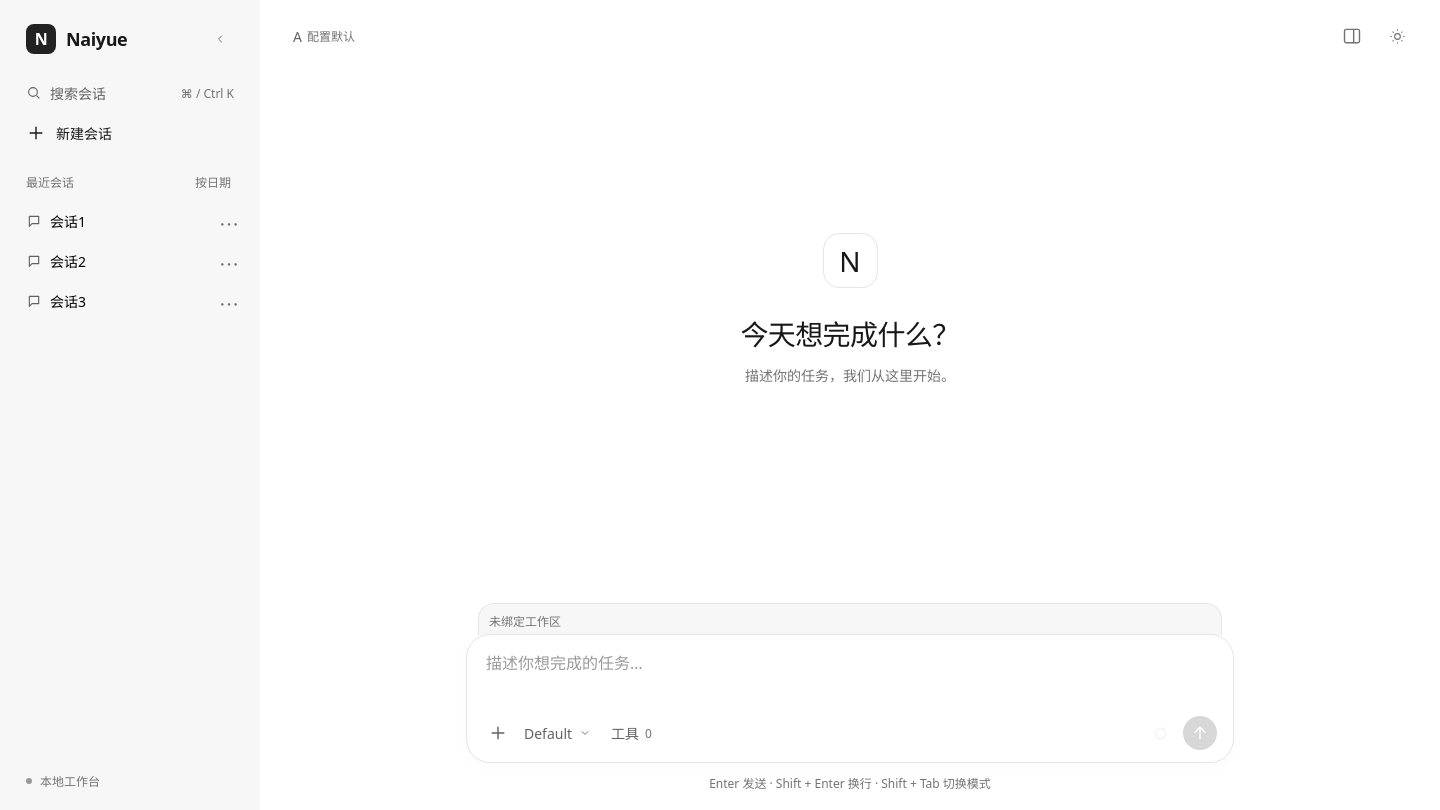
renames from the context menu without selecting or executing a conversation
Right-click the button "会话1": (130, 221) left=14, top=202, right=246, bottom=240
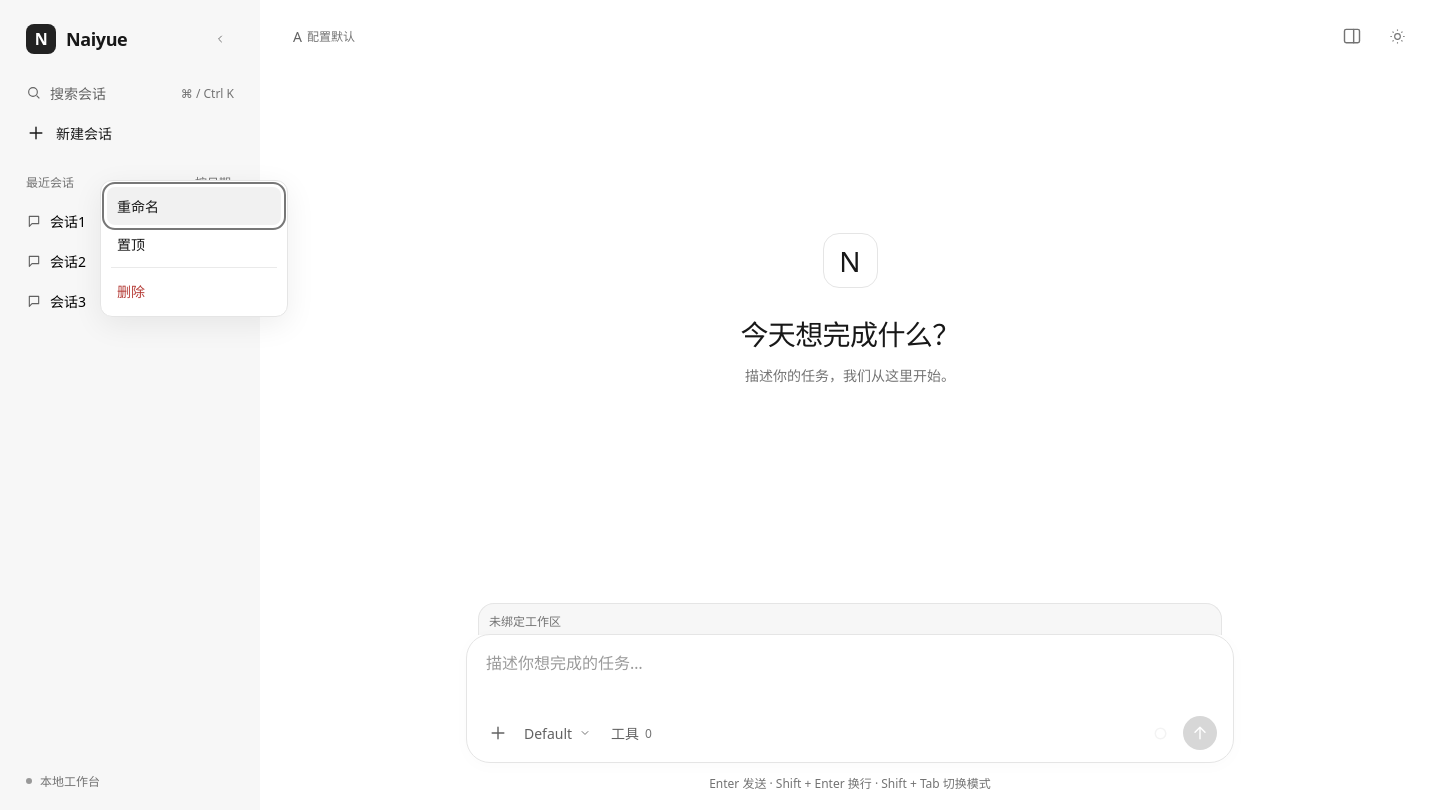
Check: the menu items read "重命名", "置顶", "删除", in this order
Click the menu item "重命名": (194, 206) left=107, top=187, right=281, bottom=225
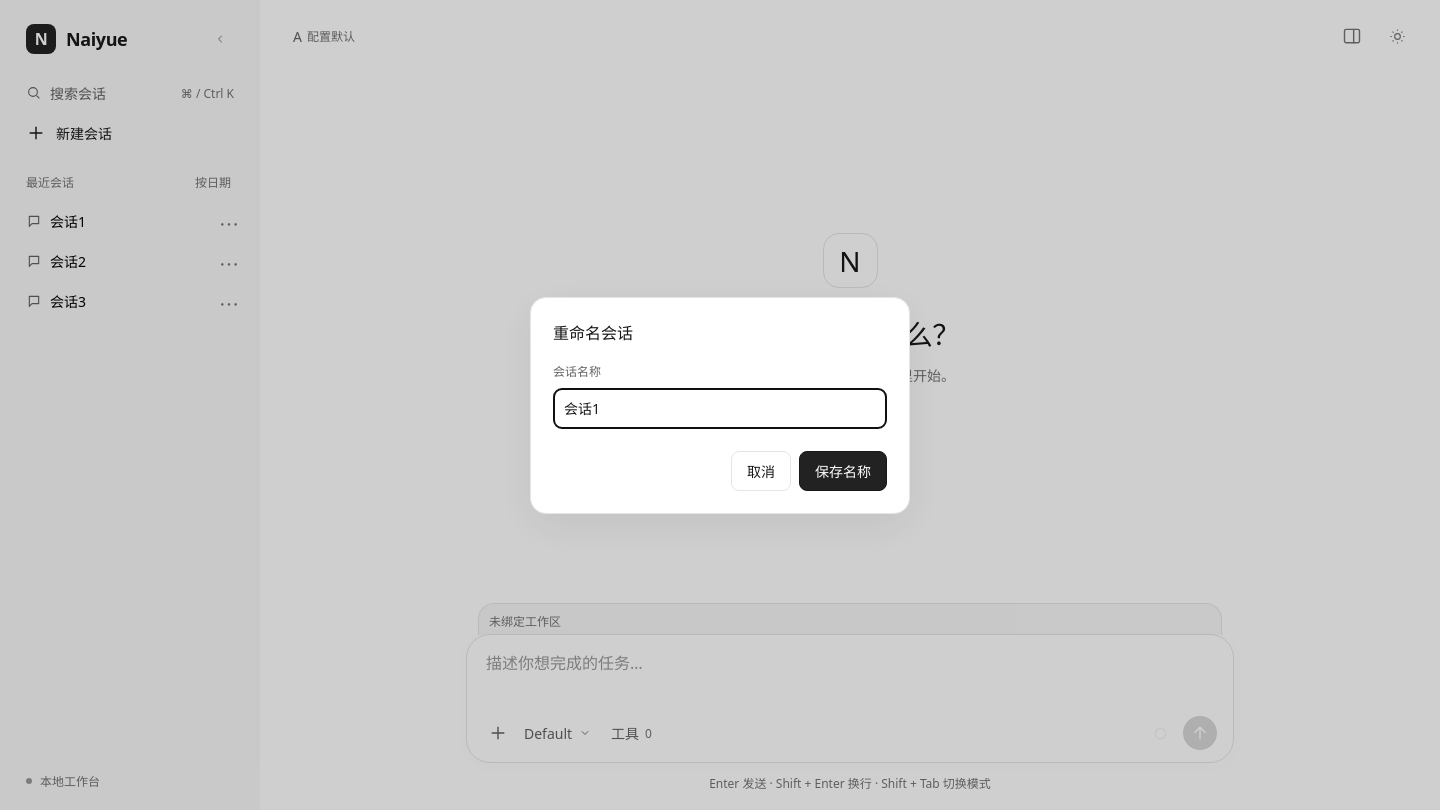
Check: the field labelled "会话名称" holds "会话1"
In the field labelled "会话名称": (720, 408) left=553, top=388, right=887, bottom=428, type "接口回归"
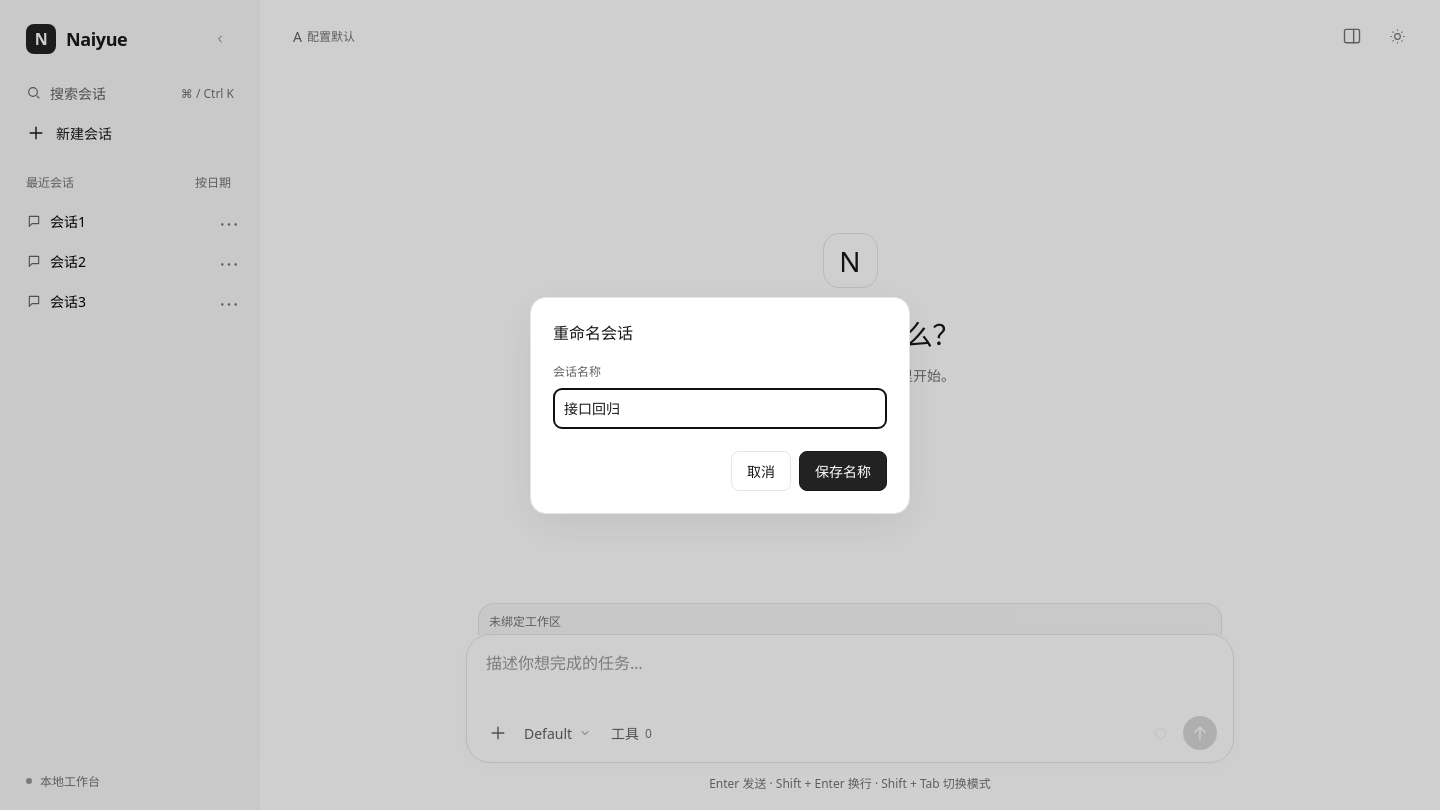
Click the button "保存名称": (843, 470) left=799, top=450, right=887, bottom=490
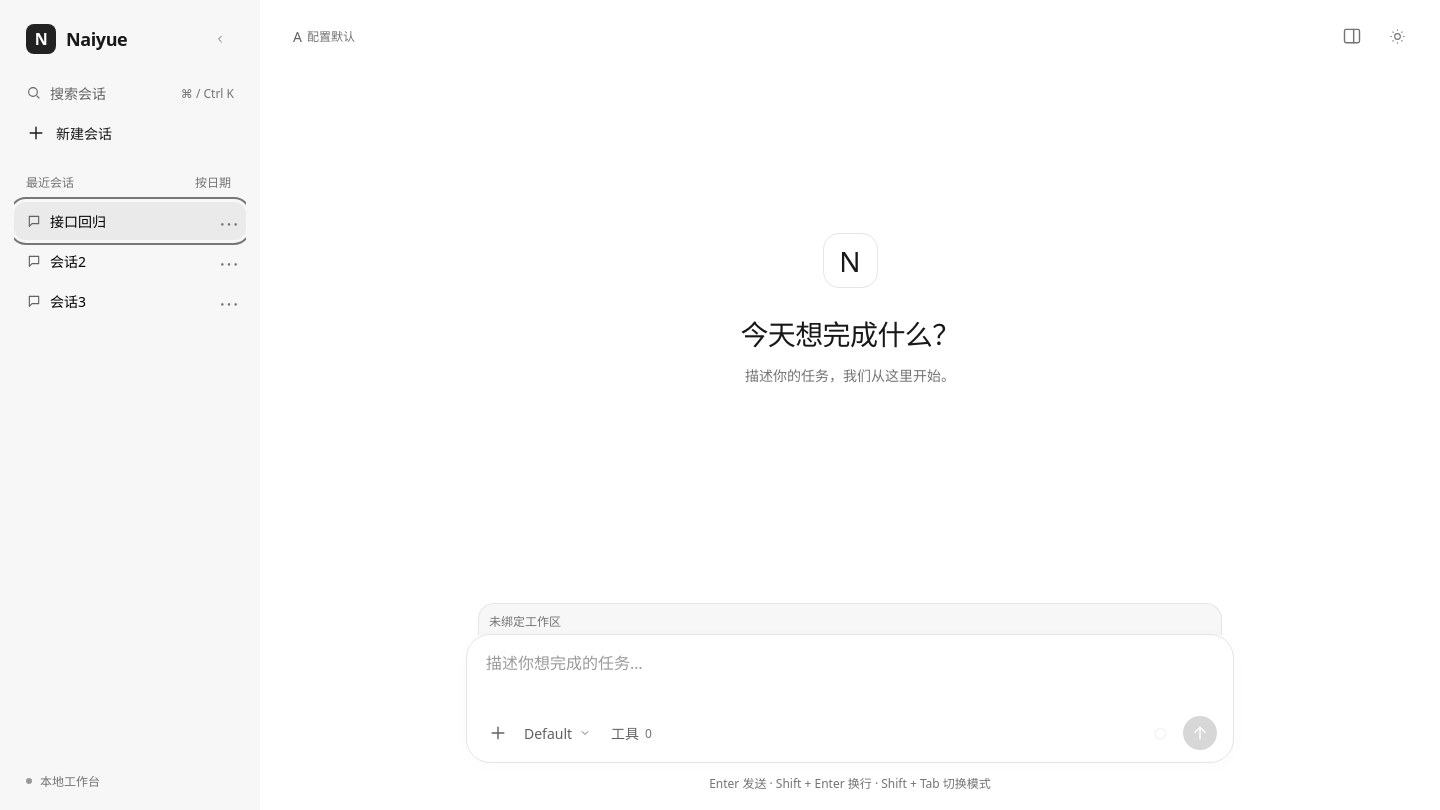
Check: the button with aria-label "接口回归 A" is shown, box left=14, top=202, right=246, bottom=240
